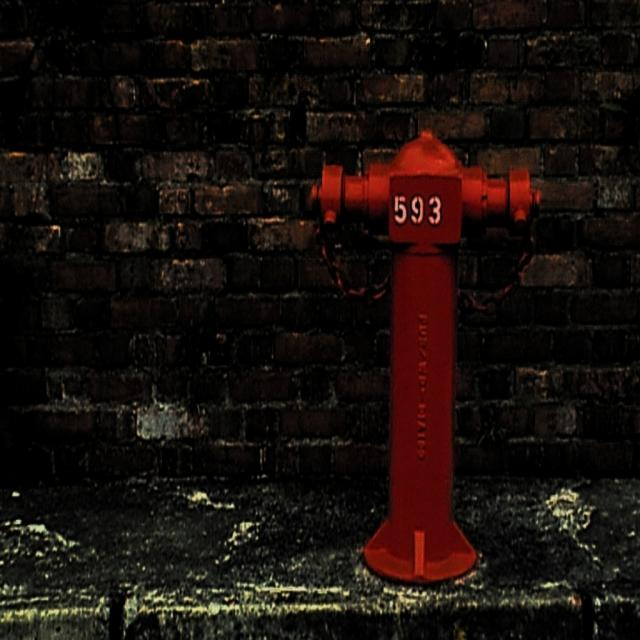fire_hydrant: (312, 128, 540, 585)
